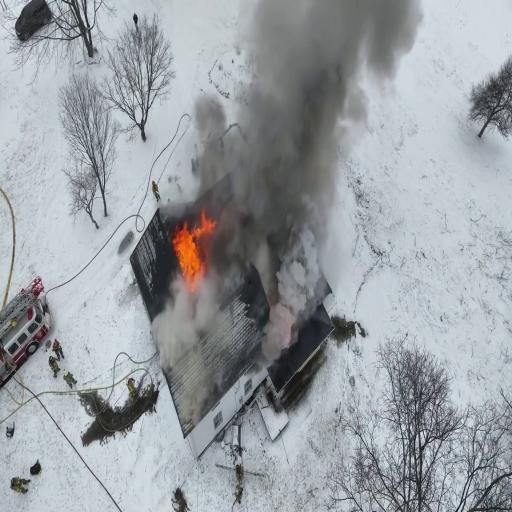fire: (171, 209, 211, 297)
smoke: (273, 109, 330, 225)
